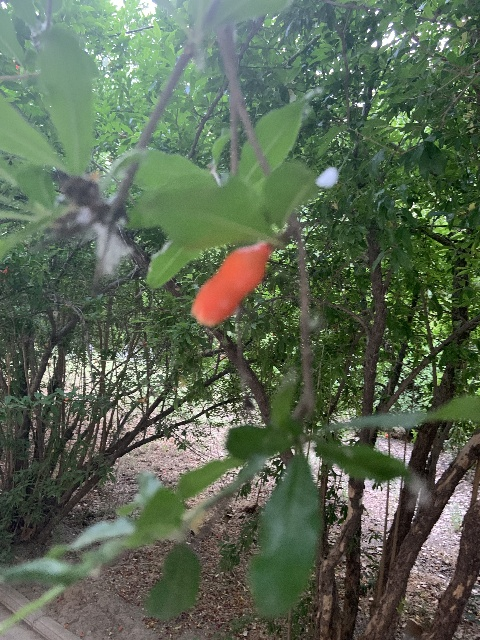bud: (191, 242, 273, 327)
